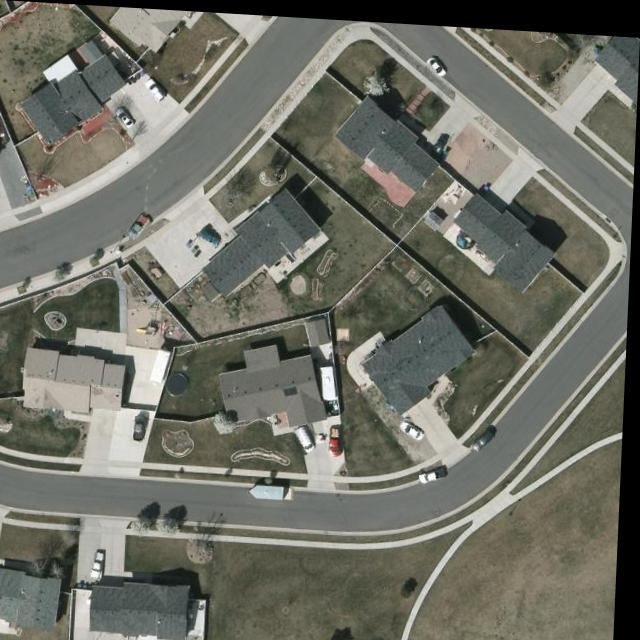vehicle: (403, 410, 431, 439), (126, 210, 156, 237), (428, 127, 455, 156), (299, 420, 321, 451), (143, 76, 169, 100), (475, 421, 499, 447), (423, 460, 452, 481), (201, 224, 226, 248), (115, 105, 139, 128), (425, 50, 449, 73), (328, 423, 347, 451), (134, 414, 153, 441), (97, 551, 109, 578)
